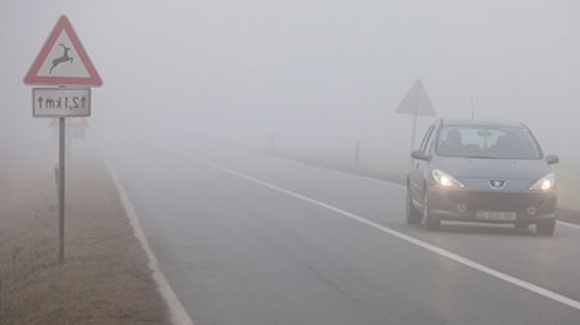Animal Crossing: (13, 10, 104, 88)
